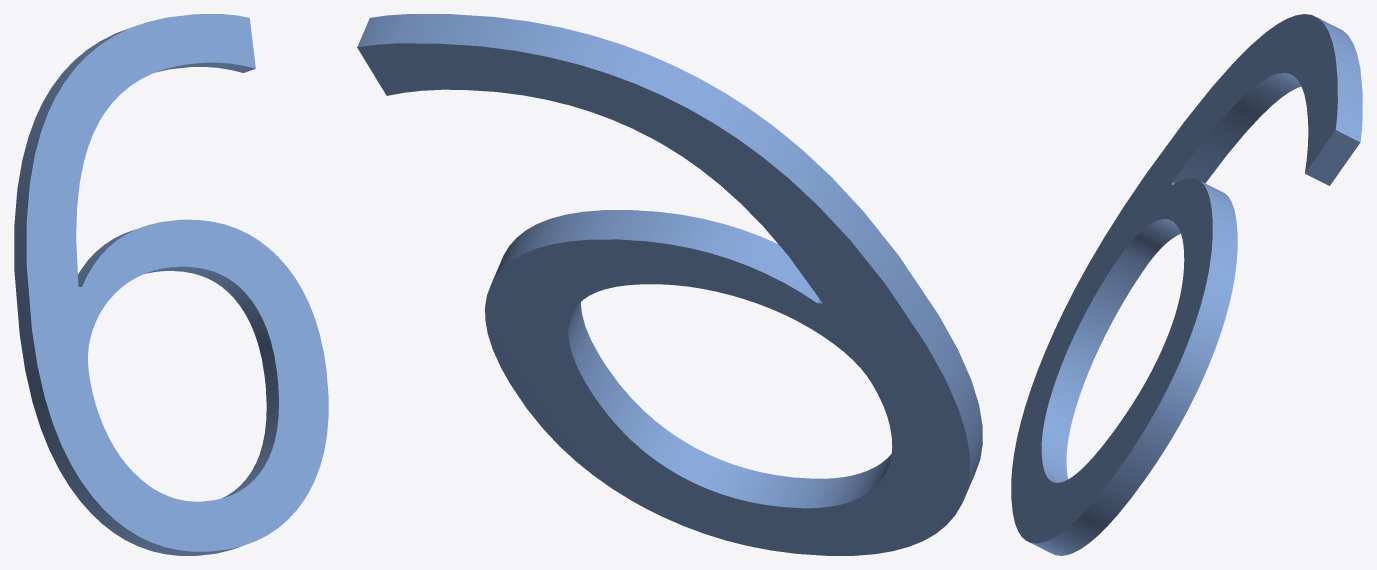
Rendered from New_Number_6.gltf.
3 views of the same model, side by side, from view 1: azimuth 30°, elevation 25°; view 2: azimuth 150°, elevation 25°; view 3: azimuth 270°, elevation 25° (orthographic). The views are drawn at different scales.
Parts seen in each view (by area): view 1: Part 78; view 2: Part 78; view 3: Part 78.
Part boxes in pixels (box(x1,y1,x2,y2)): Part 78: box(14, 14, 328, 555); Part 78: box(357, 14, 982, 555); Part 78: box(1011, 14, 1362, 555).
Size of the model in its own units: 0.00365 by 0.00494 by 0.00306.
